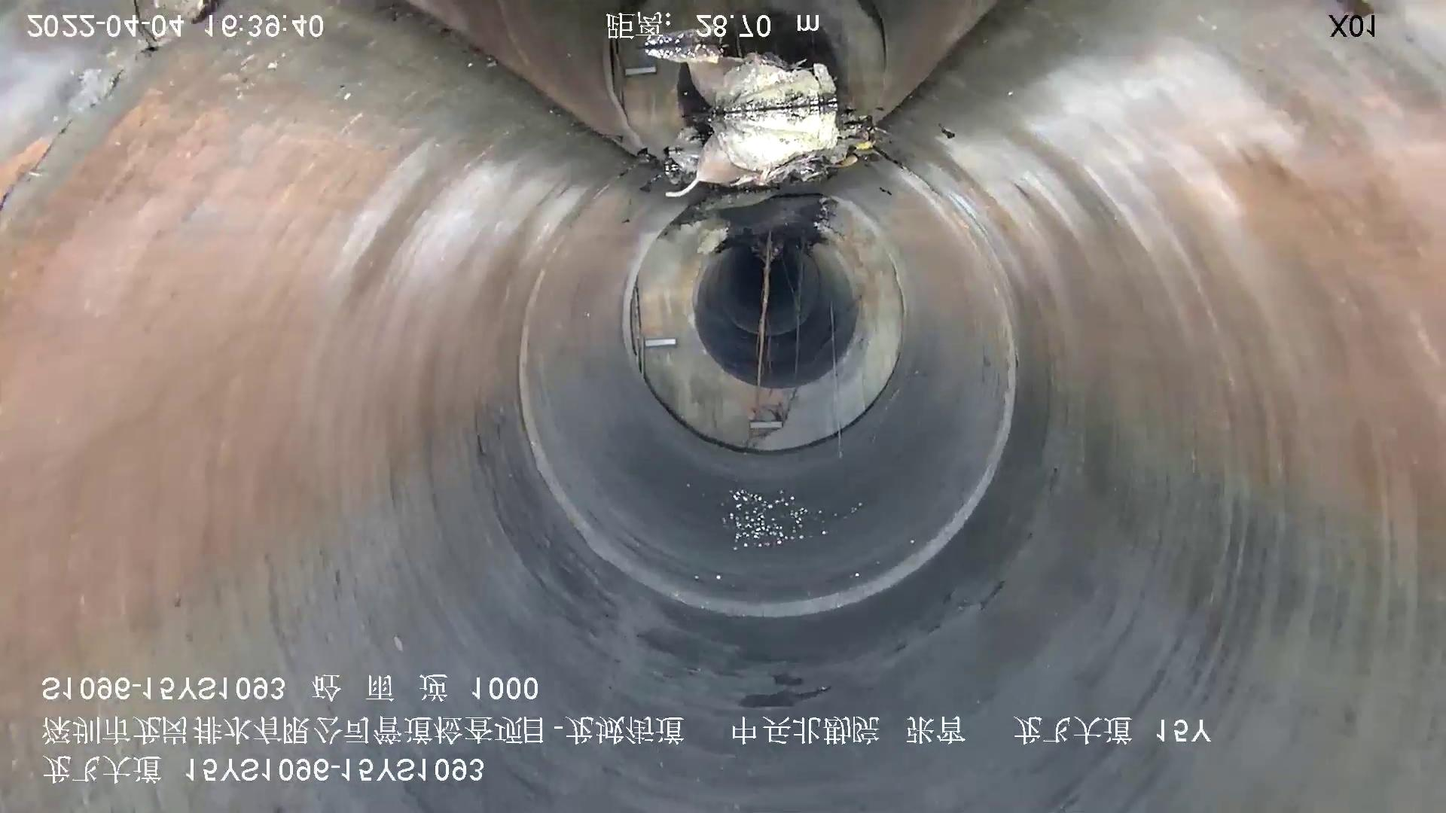CKTJ: (516, 181, 1015, 617)
SG: (626, 225, 898, 459)
ZAW: (673, 99, 870, 186)
